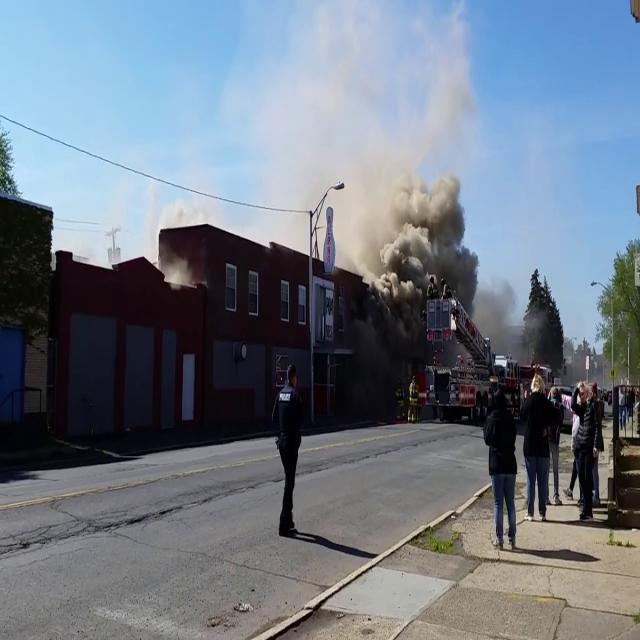Smoke: (320, 94, 487, 318)
